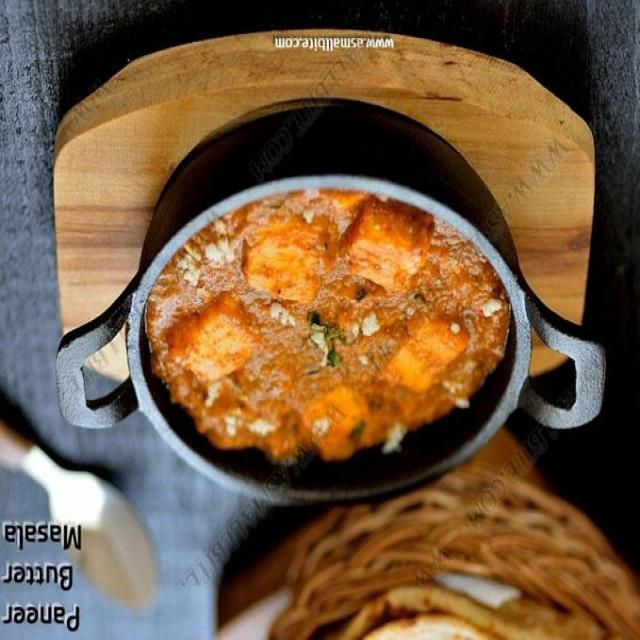roti: (372, 604, 552, 639)
